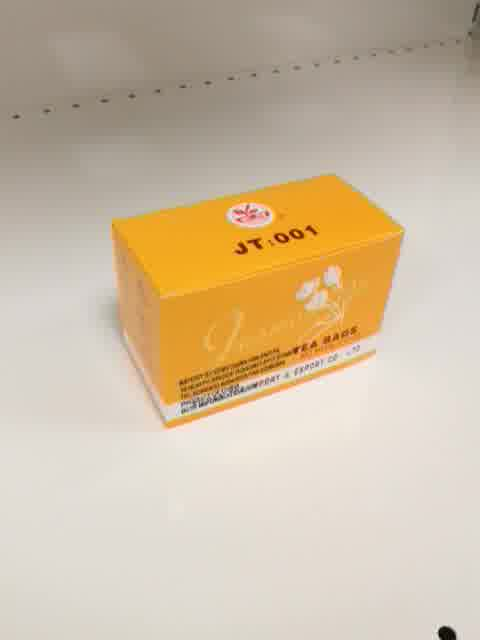jasminetea: (109, 170, 406, 430)
